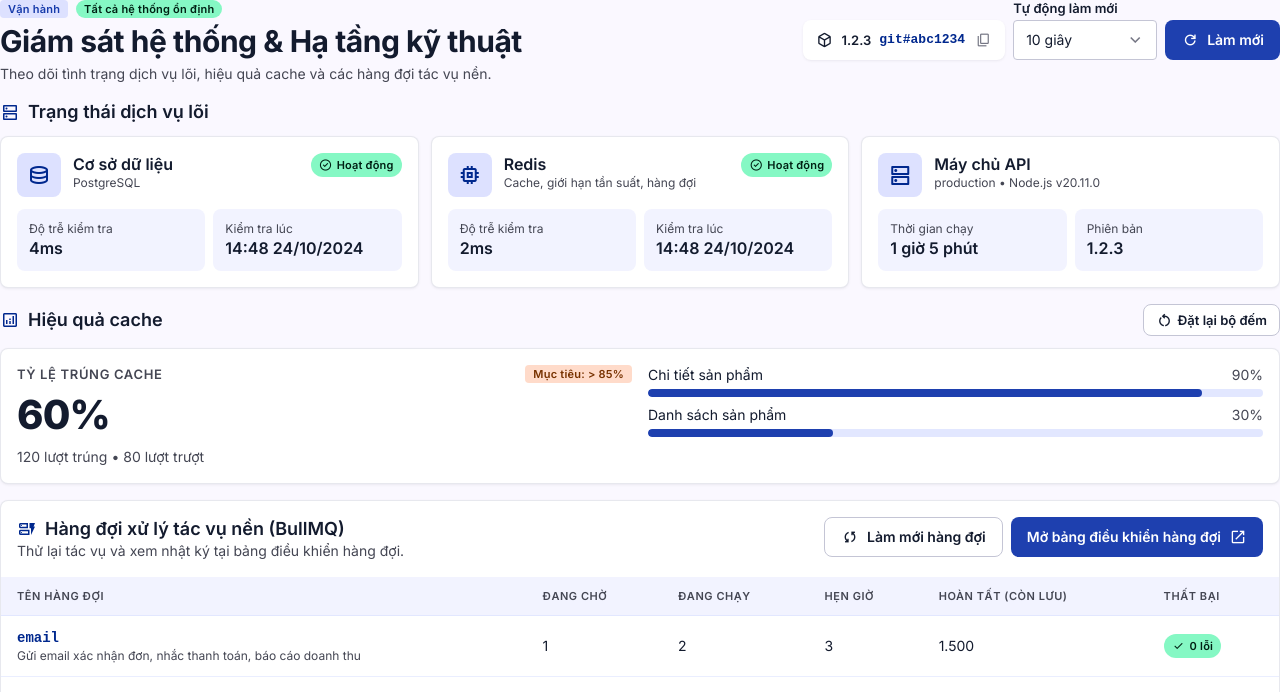
Scenario: SystemMonitorPage › đặt lại bộ đếm: chỉ DELETE sau khi xác nhận, rồi tải lại số
The image size is (1280, 692).
Expected: the text "60%" is shown, [17,390,110,439]
Click the button "Đặt lại bộ đếm".
click(1211, 320)  # box [1142,304,1279,336]
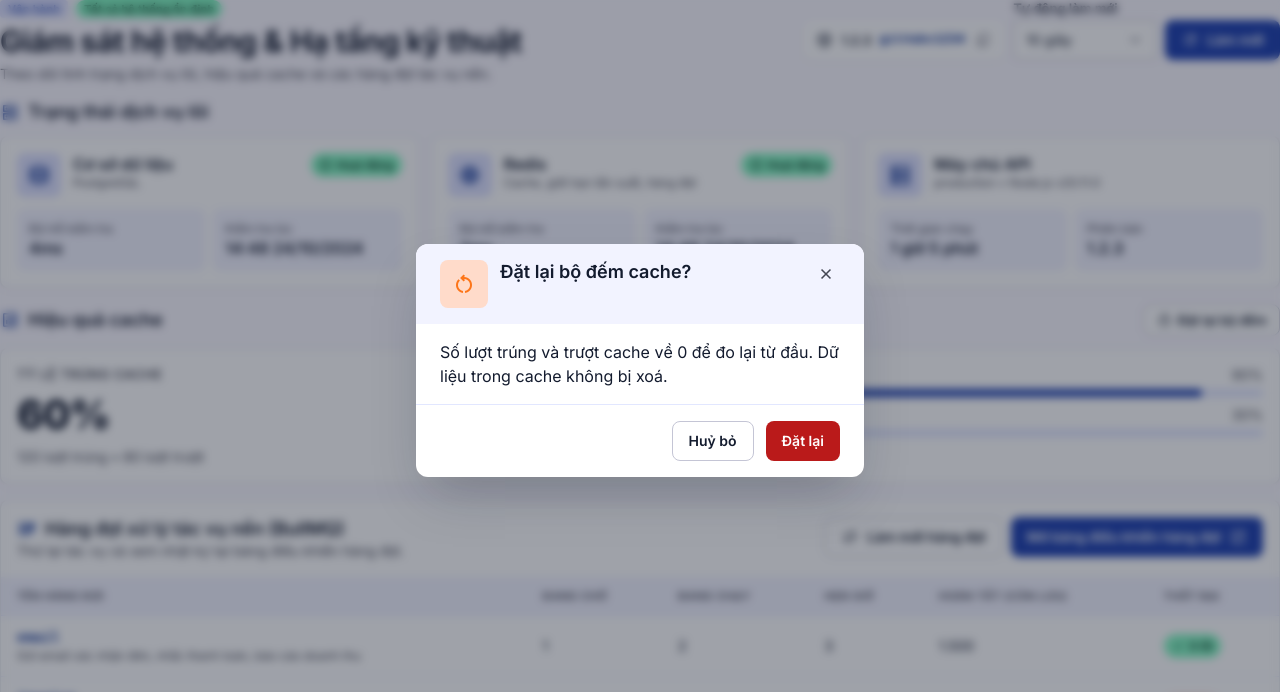
Now the dialog "Đặt lại bộ đếm cache?" shows "không bị xoá", box [440,342,839,386]
Click the button "Đặt lại".
click(803, 440)  # box [766,420,840,460]
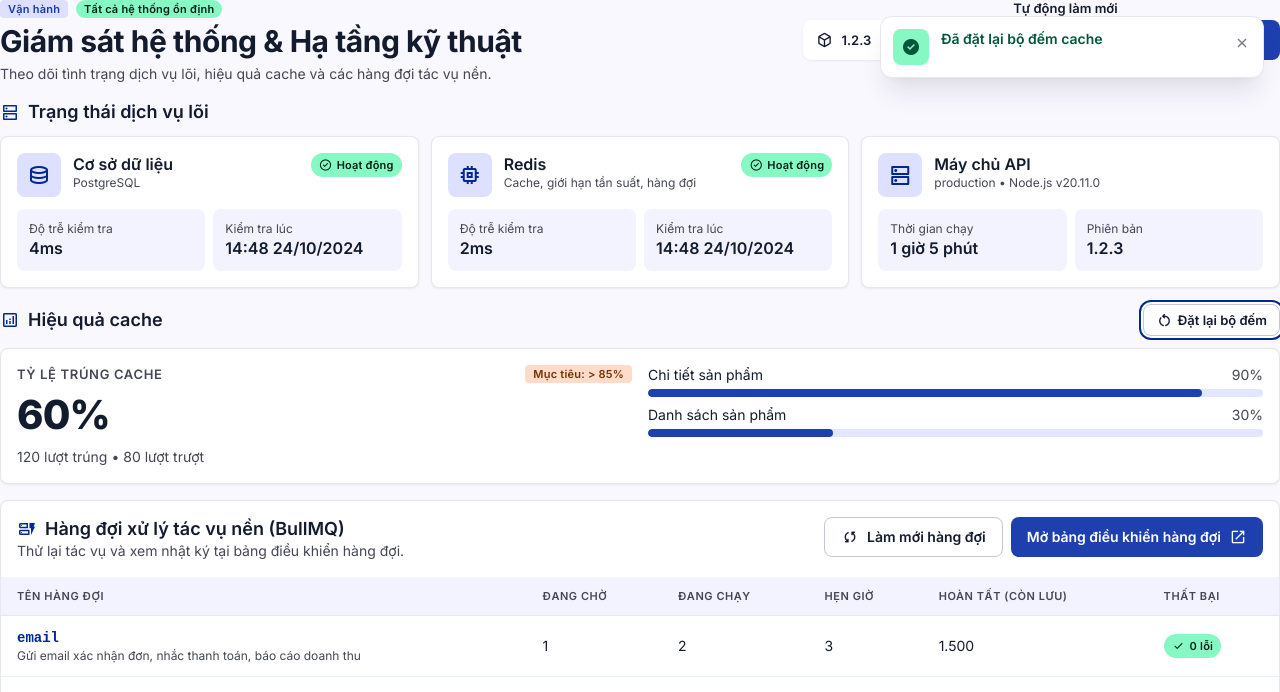
Now the text "Đã đặt lại bộ đếm cache" is shown, box [941,30,1102,47]
